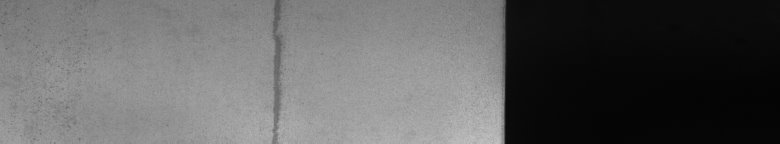hd: (267, 4, 287, 136)
